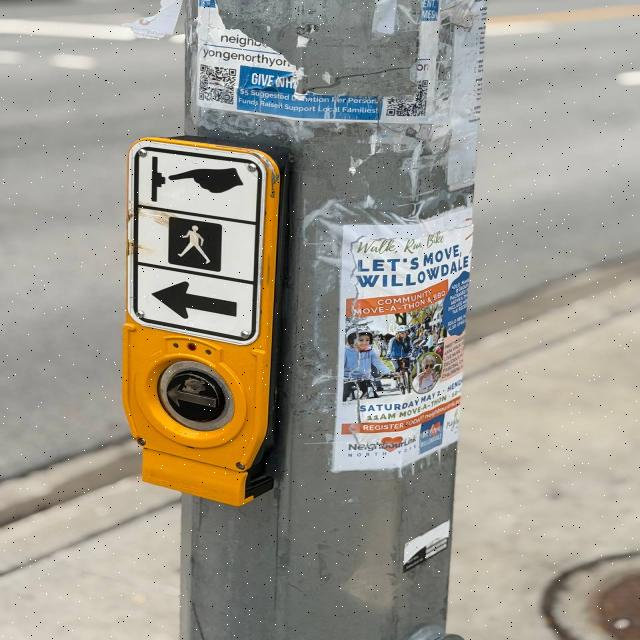Electrical Pole: (114, 0, 494, 640)
